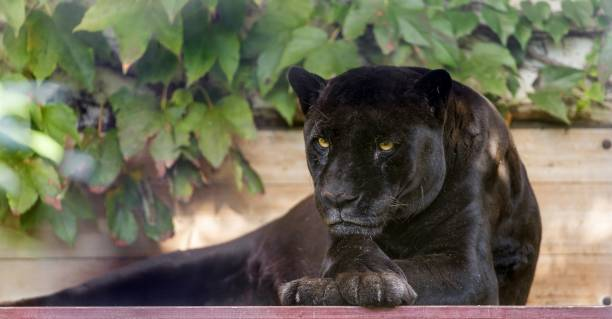panther: (272, 49, 472, 252)
